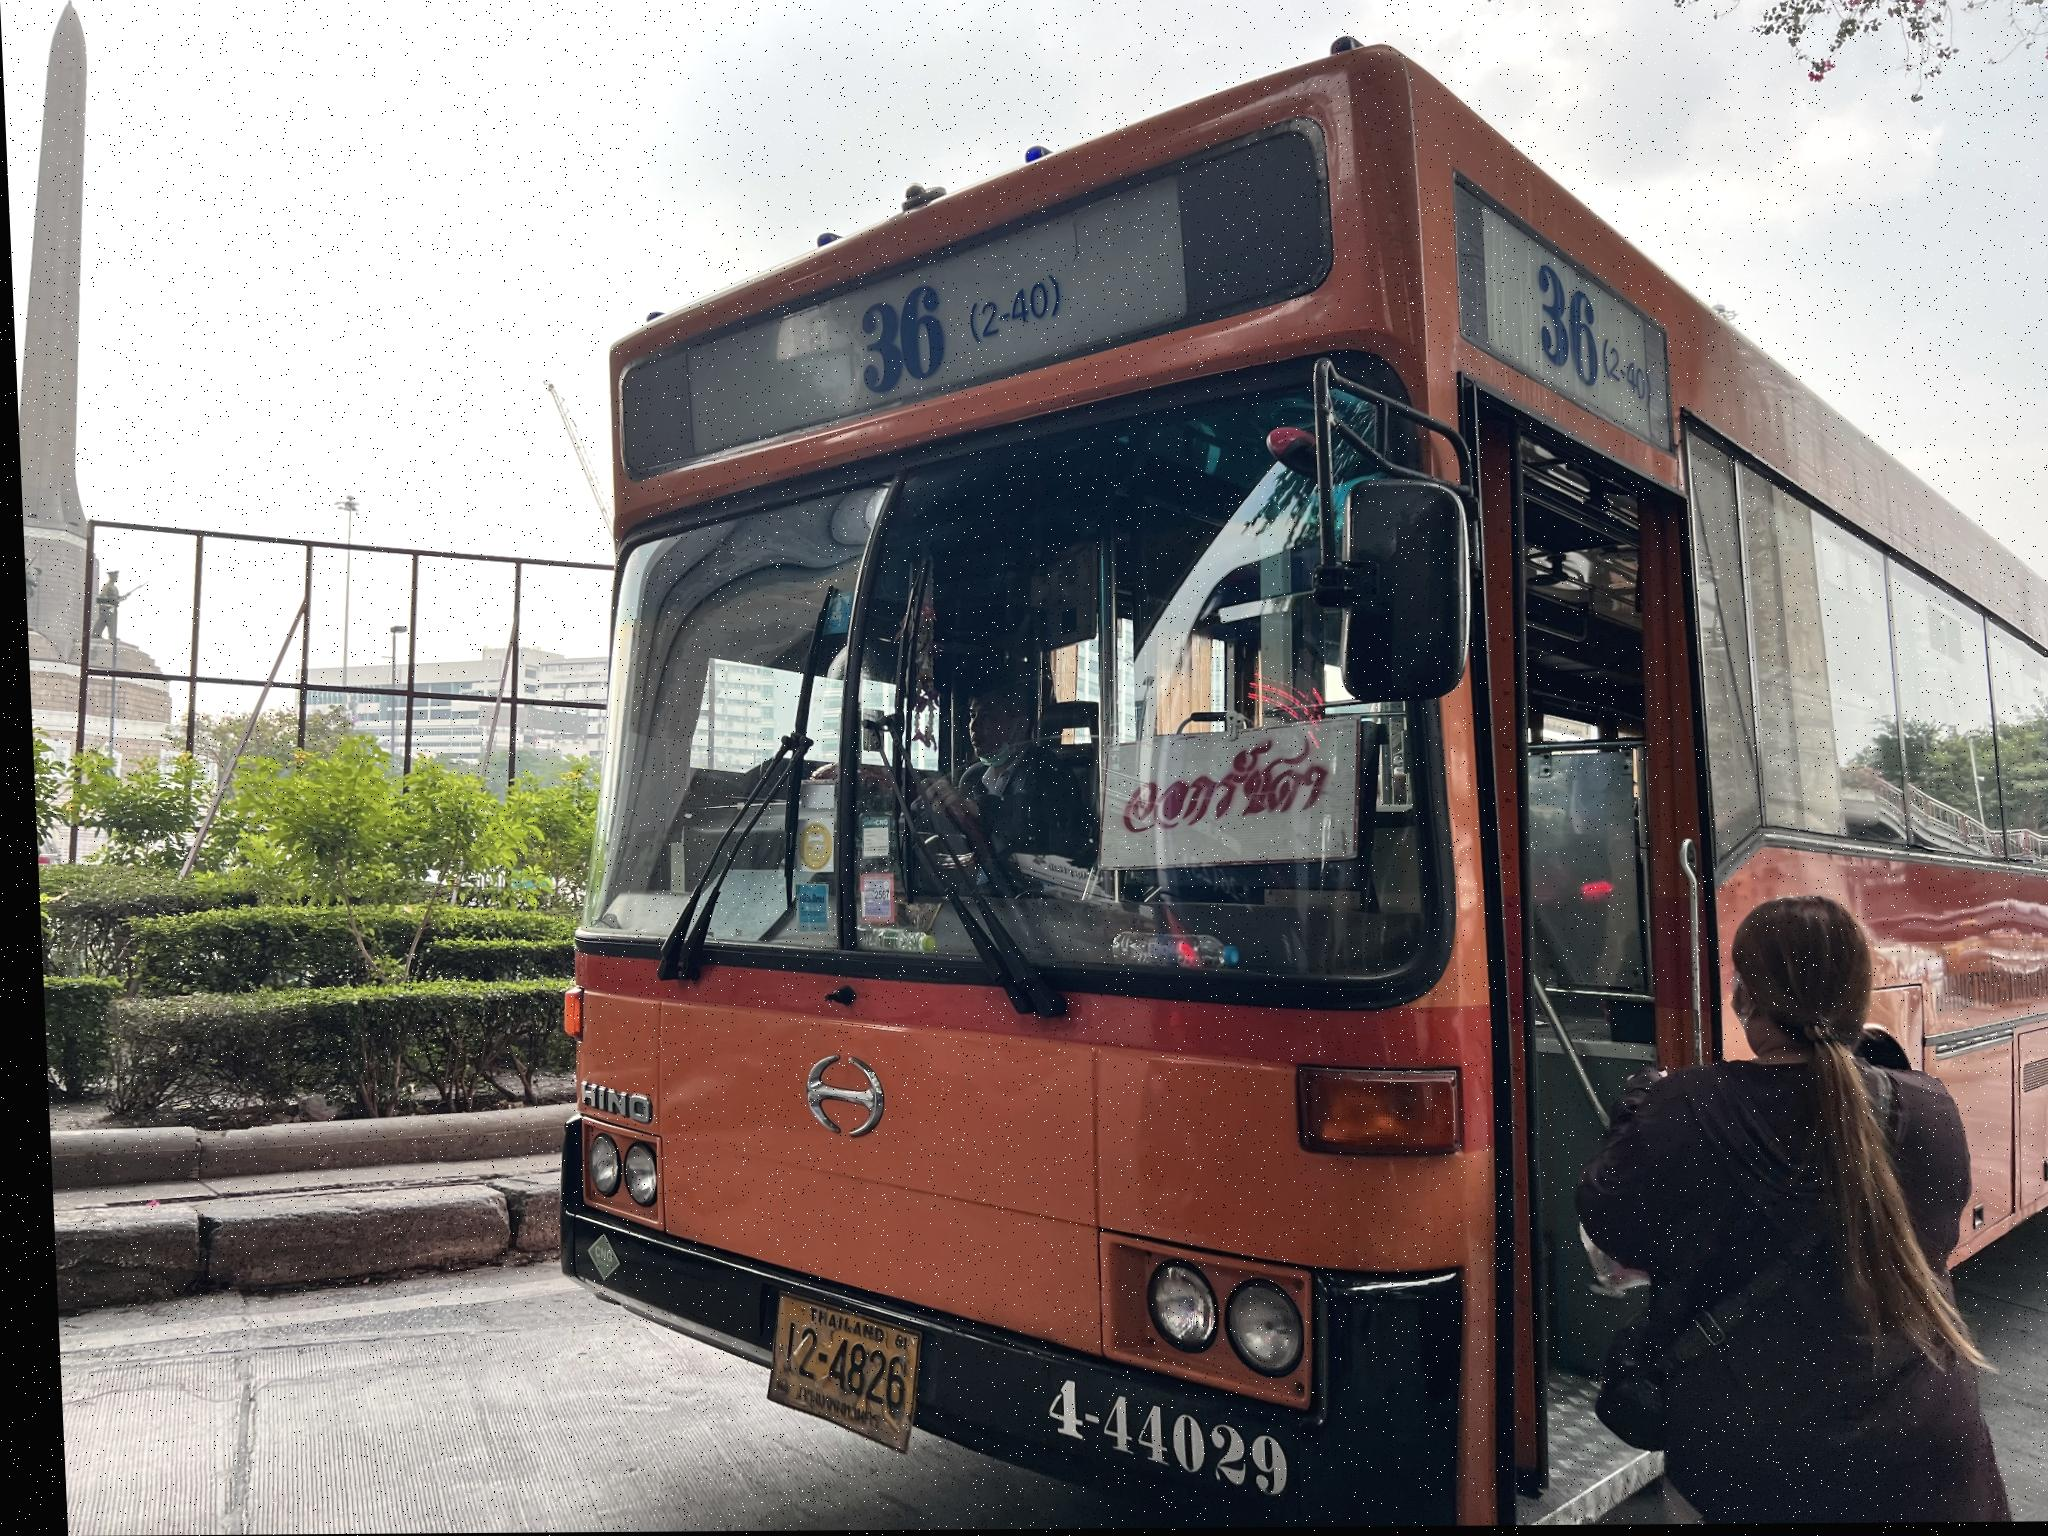BMTA-bus: (548, 42, 2048, 1528)
Bus Line Number: (858, 242, 1072, 397), (1511, 265, 1659, 426)
Bus Side Number: (1026, 1367, 1279, 1505)
Destination Sign: (1095, 729, 1359, 858)
